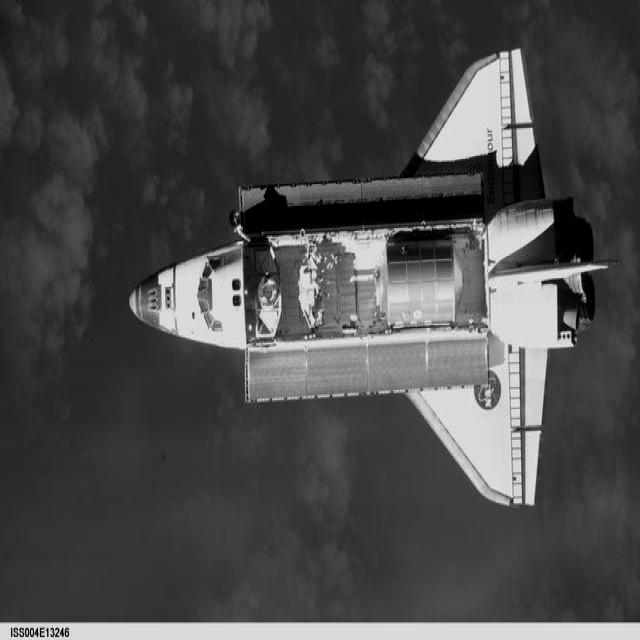medium_debris: (128, 52, 612, 510)
